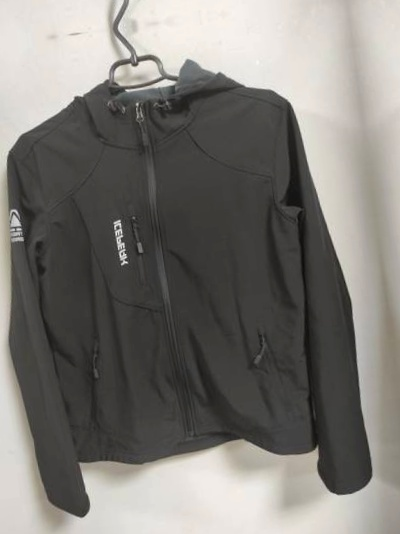Hoodie: (0, 41, 388, 534), (377, 0, 400, 486), (0, 0, 317, 8)
